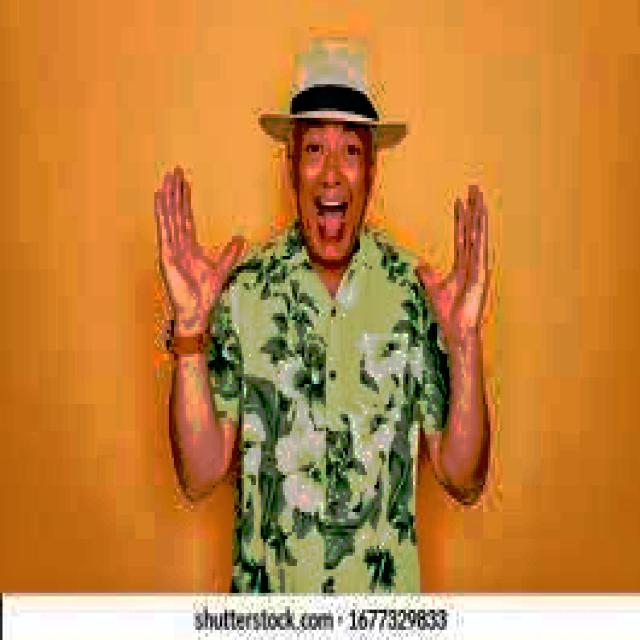TOPI: (254, 34, 408, 145)
